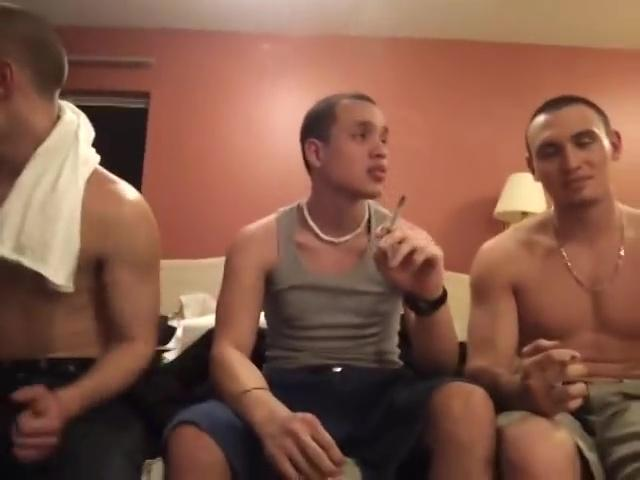cigarette: (388, 195, 408, 237)
